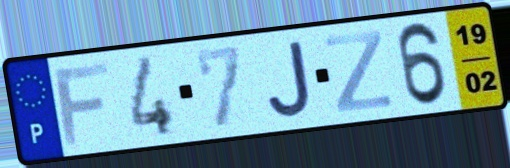4: (127, 54, 177, 139)
6: (394, 20, 449, 108)
7: (193, 43, 245, 132)
F: (51, 60, 112, 149)
J: (265, 37, 315, 120)
Z: (323, 28, 395, 116)
